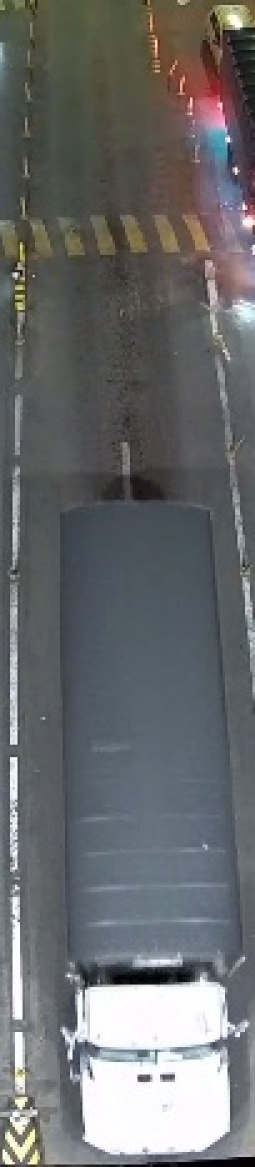truck: (48, 501, 251, 1158)
